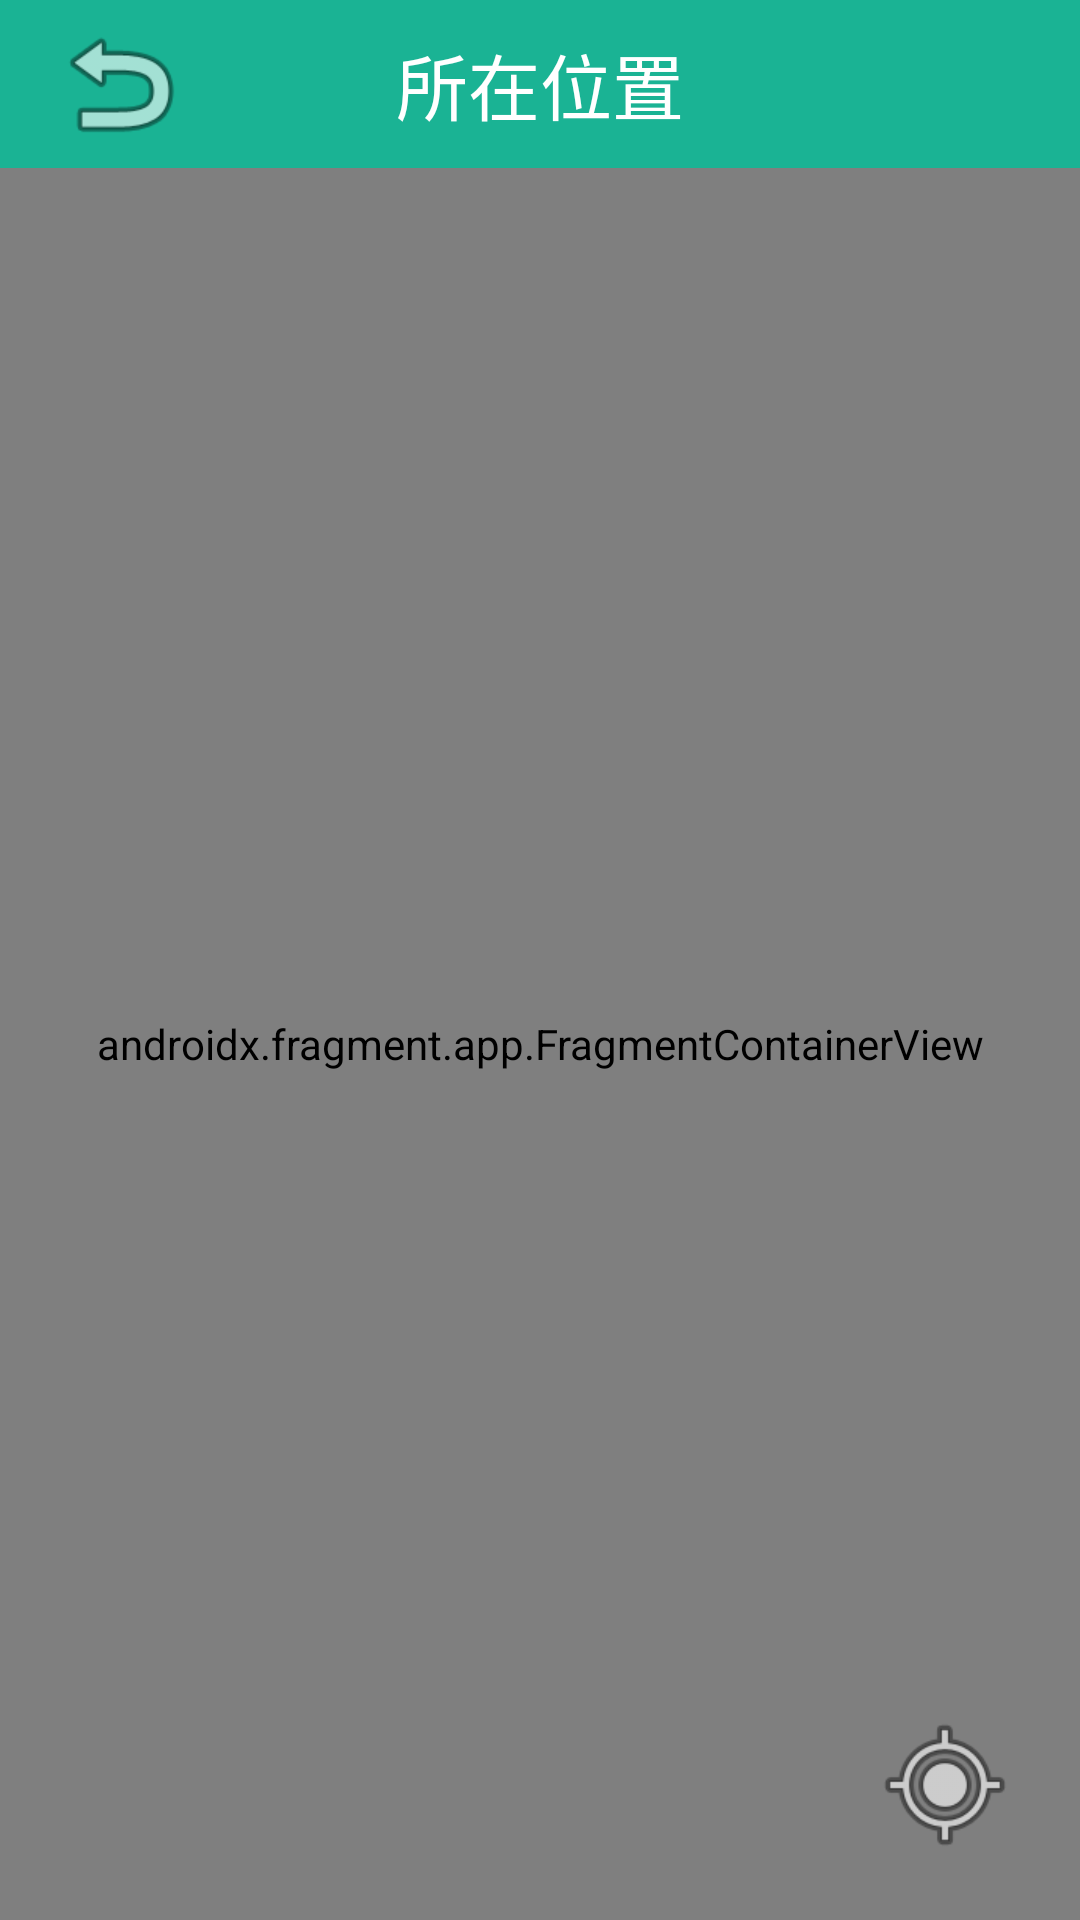

Icon bounding boxes for this 1080 × 1920 phone screenshot, format bbox=(x1, y1, x2, y2):
mylocation: bbox=(885, 1725, 1005, 1845)
revert: bbox=(70, 38, 174, 132)
